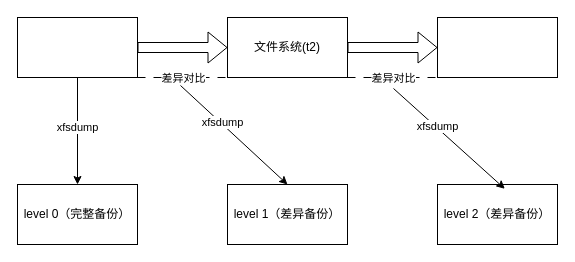
Image size: 575x262. Some labels were removed from this diagram. Here are the shapes that lost their labels. From the top down, the box of each, then its label:
(16, 16, 138, 78): 文件系统(t1)
(436, 16, 558, 78): 文件系统(tn)
